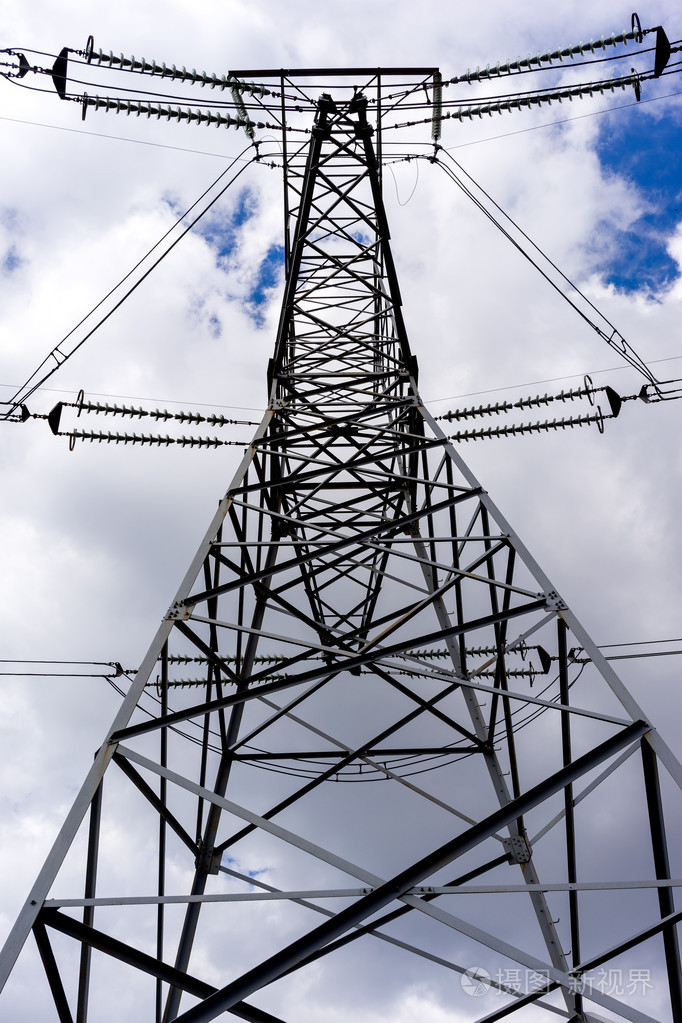insulator: (449, 23, 633, 118), (89, 45, 263, 128), (447, 384, 587, 439), (75, 396, 223, 447)
